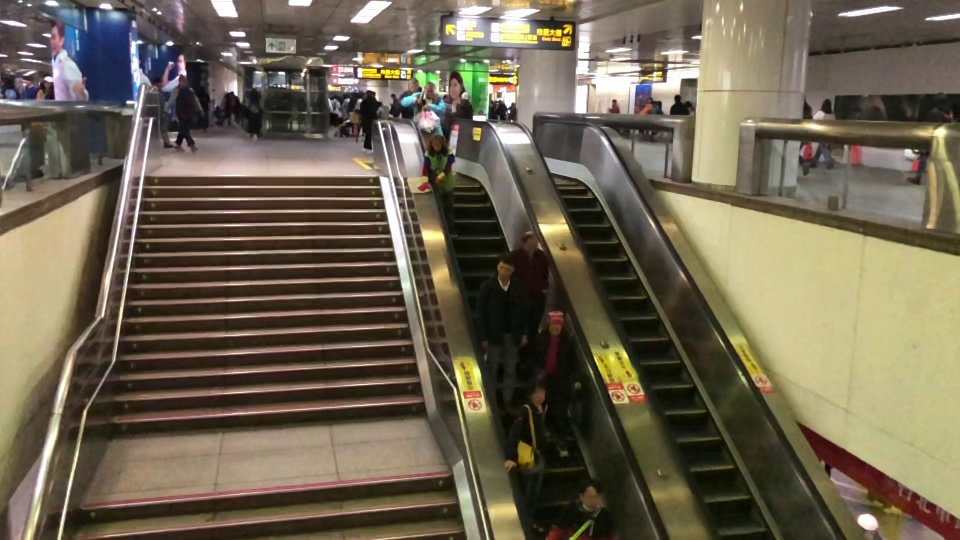person_head: (541, 311, 566, 339), (577, 478, 602, 506), (524, 377, 546, 403), (494, 255, 515, 280), (519, 231, 539, 250), (932, 92, 949, 110), (429, 134, 444, 152), (424, 81, 435, 97), (408, 77, 419, 92), (178, 75, 190, 87), (821, 98, 832, 111), (152, 78, 161, 89), (673, 94, 682, 103), (461, 93, 469, 102), (24, 77, 33, 84), (251, 88, 258, 97), (685, 101, 691, 107), (656, 100, 661, 106), (367, 91, 374, 95), (612, 98, 617, 103), (651, 99, 655, 105)
person_vbox: (522, 311, 593, 458), (474, 254, 528, 418), (504, 377, 547, 537), (547, 478, 616, 540), (906, 92, 950, 188), (421, 134, 461, 238), (510, 231, 549, 336), (162, 75, 205, 154), (400, 81, 446, 144), (811, 98, 836, 170), (151, 80, 173, 148), (359, 90, 381, 154), (244, 87, 266, 141), (799, 95, 813, 176), (398, 77, 419, 118), (455, 92, 474, 117), (669, 95, 688, 116), (21, 77, 36, 99), (638, 98, 655, 114), (607, 98, 619, 114), (685, 100, 696, 116), (651, 99, 662, 113)
